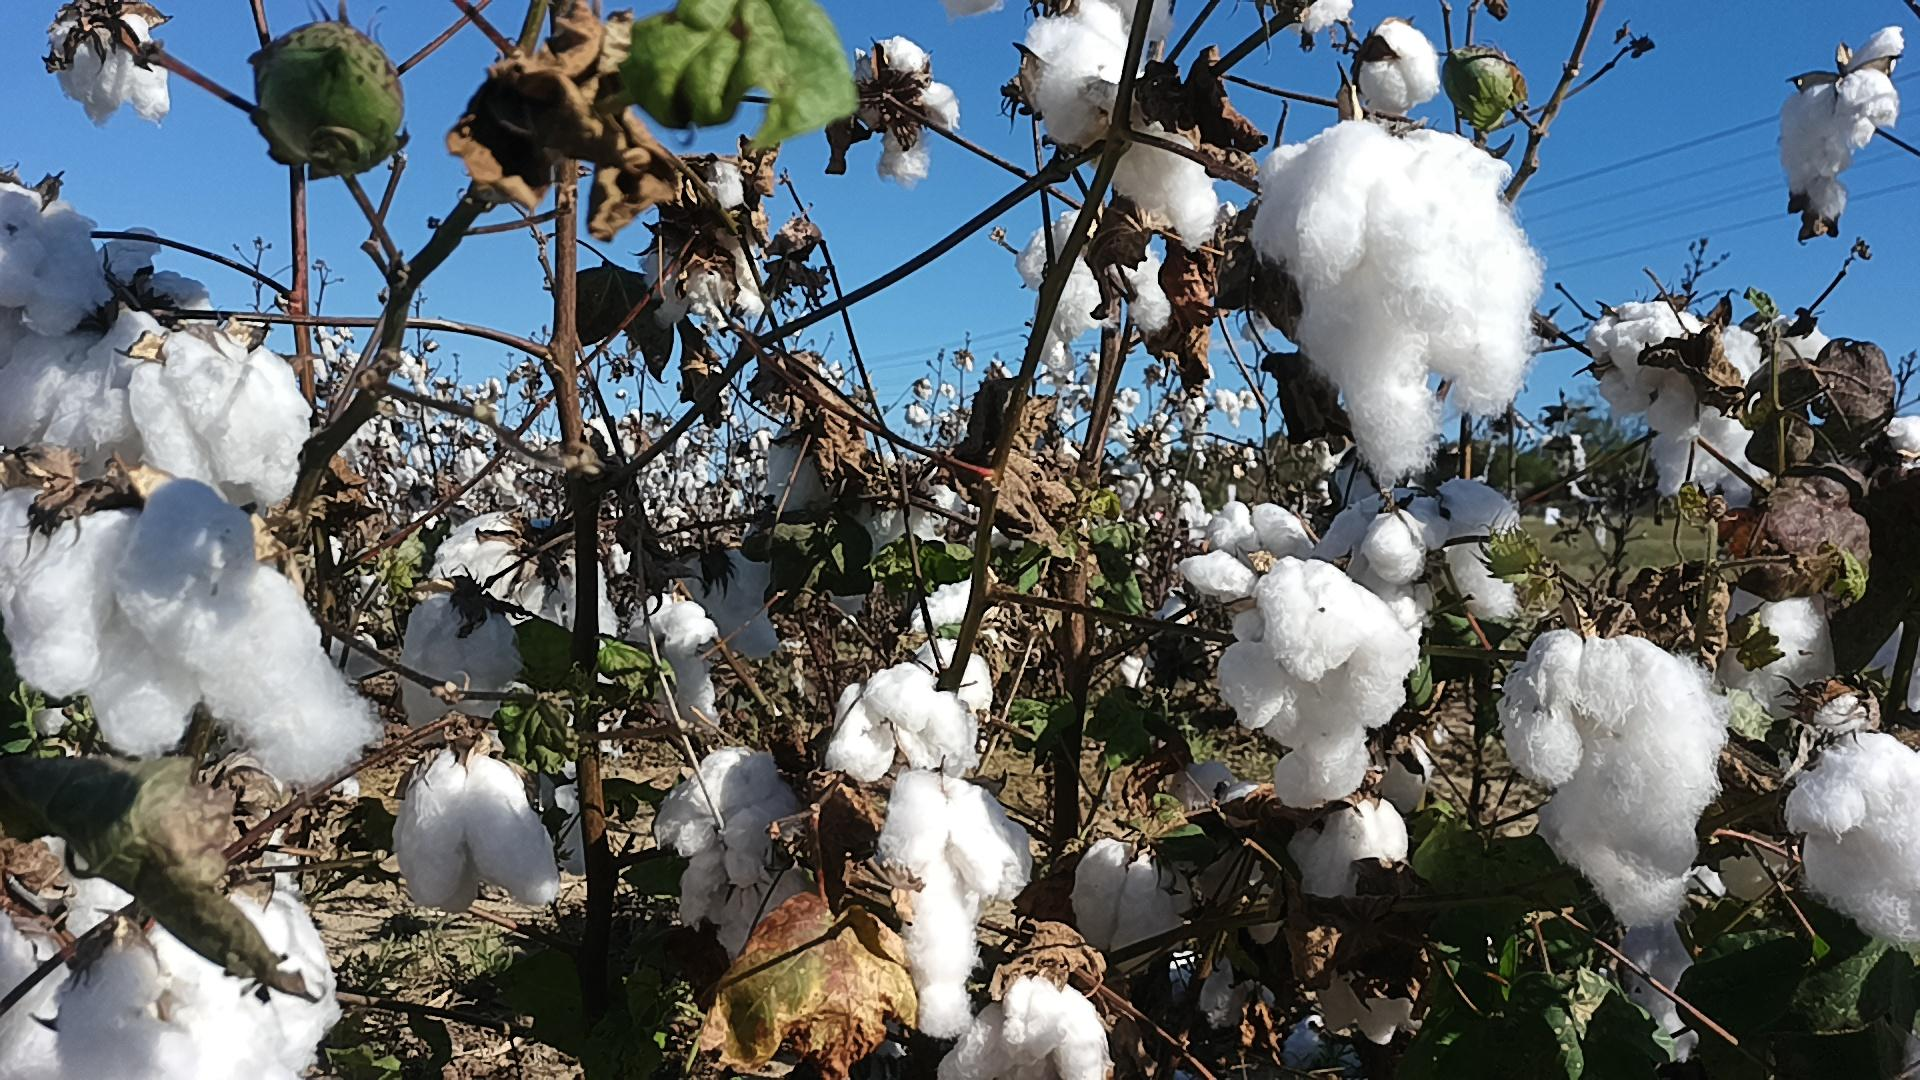cotton_ready: (1247, 117, 1548, 489), (113, 476, 378, 789), (58, 886, 345, 1080), (0, 485, 202, 746), (1538, 641, 1721, 927), (1213, 555, 1414, 800), (882, 770, 1038, 1036), (0, 836, 138, 1080), (1321, 477, 1513, 647), (129, 334, 309, 513), (392, 738, 560, 915), (1784, 733, 1920, 951), (0, 309, 174, 468), (1778, 25, 1905, 223), (1654, 326, 1783, 505), (1014, 206, 1175, 334), (1178, 498, 1317, 645), (644, 166, 767, 330), (1712, 585, 1833, 733), (938, 982, 1116, 1080), (828, 666, 980, 779), (1072, 837, 1193, 977), (400, 593, 530, 723), (0, 183, 108, 338), (852, 38, 960, 187), (1023, 0, 1133, 145), (654, 748, 808, 851), (47, 9, 170, 136), (1108, 111, 1221, 243), (1588, 301, 1702, 427), (426, 508, 555, 615), (1286, 795, 1411, 903), (1495, 628, 1581, 785), (624, 595, 723, 723), (1197, 920, 1311, 1031), (674, 815, 778, 932), (682, 550, 786, 659), (98, 231, 215, 326), (1784, 691, 1888, 787), (560, 538, 621, 703), (1614, 923, 1702, 1035), (712, 865, 808, 959), (1317, 976, 1433, 1048), (767, 423, 844, 527), (860, 476, 960, 555), (1356, 18, 1437, 107), (907, 640, 1001, 713), (1859, 616, 1920, 725), (911, 571, 996, 630), (1883, 407, 1920, 473), (1292, 0, 1361, 33)
